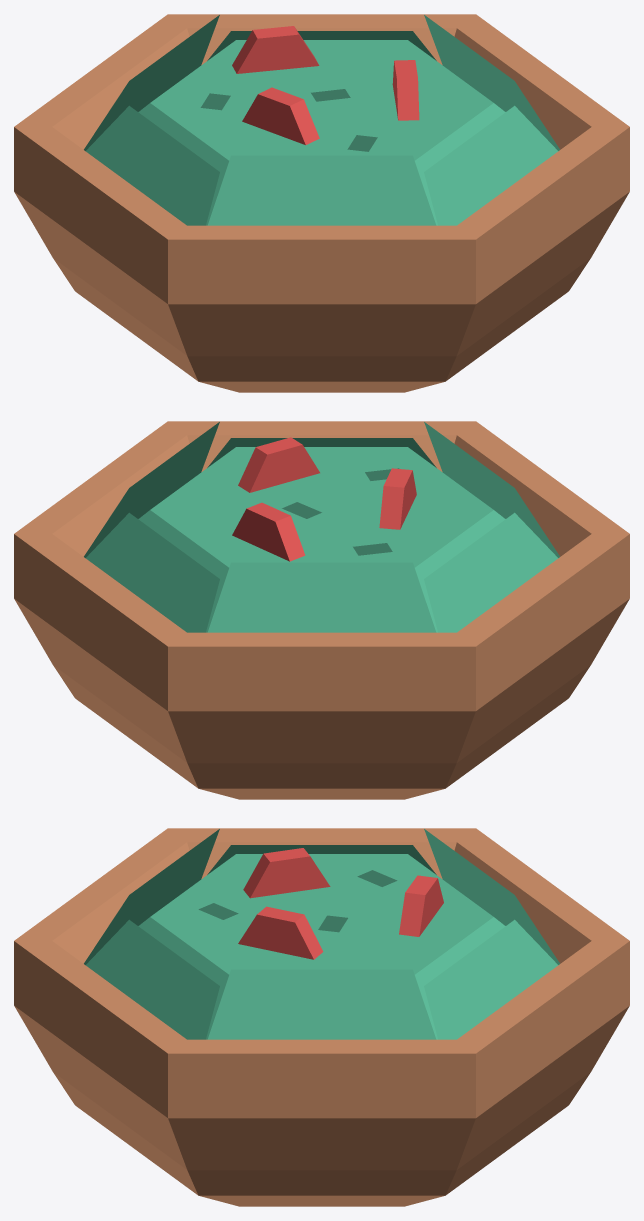
The model's file is salad.dae.
3 renders of one model, top to bottom at view 1: azimuth 30°, elevation 25°; view 2: azimuth 150°, elevation 25°; view 3: azimuth 270°, elevation 25°, orthographic.
Parts seen in each view (by area): view 1: salad; view 2: salad; view 3: salad.
Boxes of the visible parts, x1,y1,x2,y2 form: salad: [14, 14, 629, 392]; salad: [14, 421, 629, 799]; salad: [14, 828, 629, 1206].
Size of the model in its own units: 0.5022 by 0.2734 by 0.5798.
